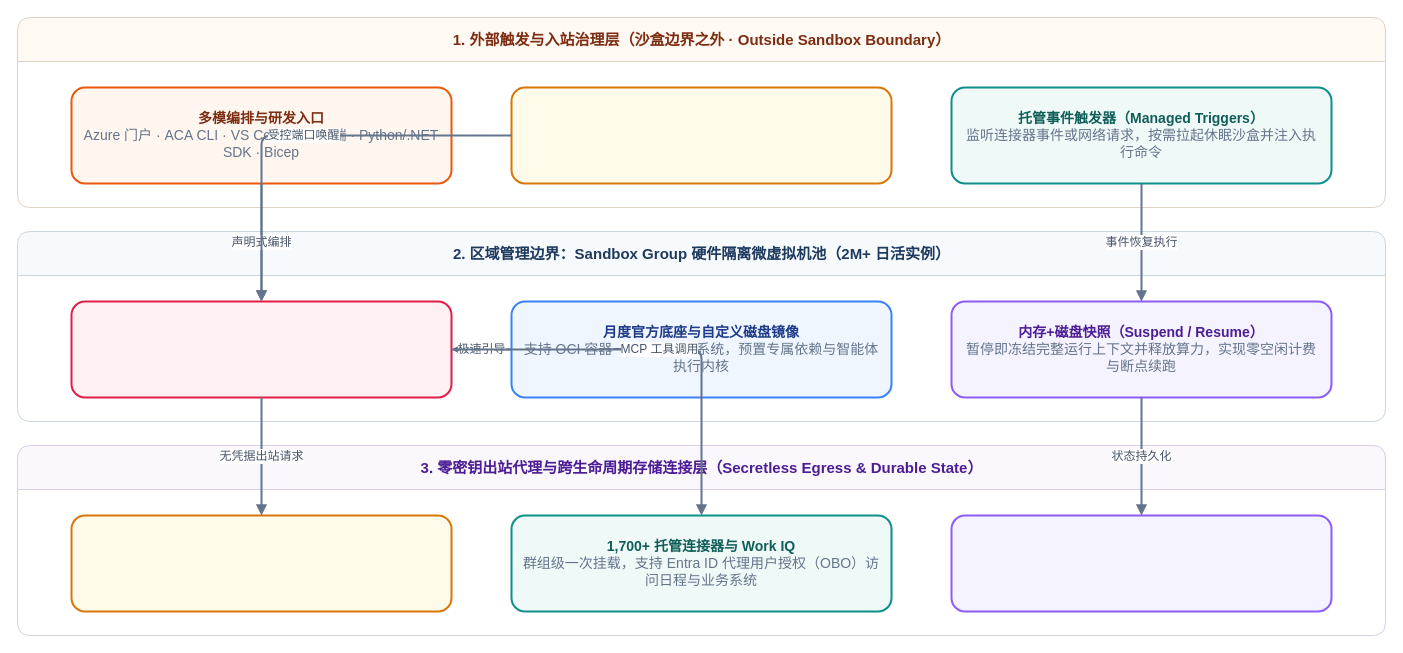
Image size: 1403x653. Some labels were removed from this diagram. Here are the shapes that lost their labels. From the top down, the centre of each, then its label:
point (701, 135): 独立入站代理（Ingress Proxy） 默认全关；按实例与端口显式开放，支持 Entra ID 认证与流量唤醒
point (261, 349): 独立内核微虚拟机（ACA Sandbox） XS (0.25核/0.5GiB) 至 3XL (16核/32GiB)，<1 秒极速启动运行非受信代码
point (261, 563): 零密钥出站代理（Egress Proxy） 默认全拒+域名白名单；通过 Transform 规则在沙盒外动态注入真实凭据
point (1141, 563): 跨沙盒持久记忆存储与私有网络 托管磁盘、Blob 存储及私有 VNet 直连，沙盒销毁后长程记忆依然留存
